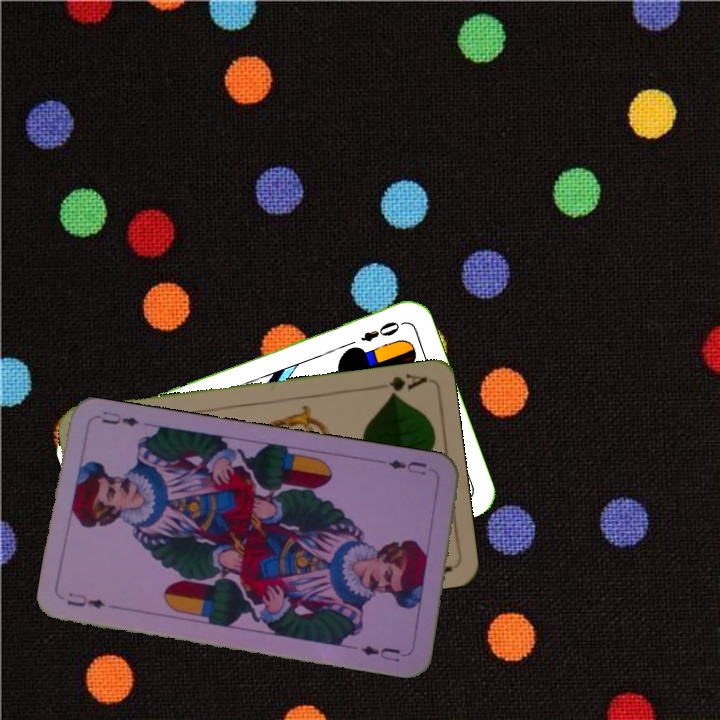EO: (357, 317, 407, 345)
EU: (63, 588, 108, 612), (384, 455, 429, 478)
GA: (385, 370, 429, 400)
